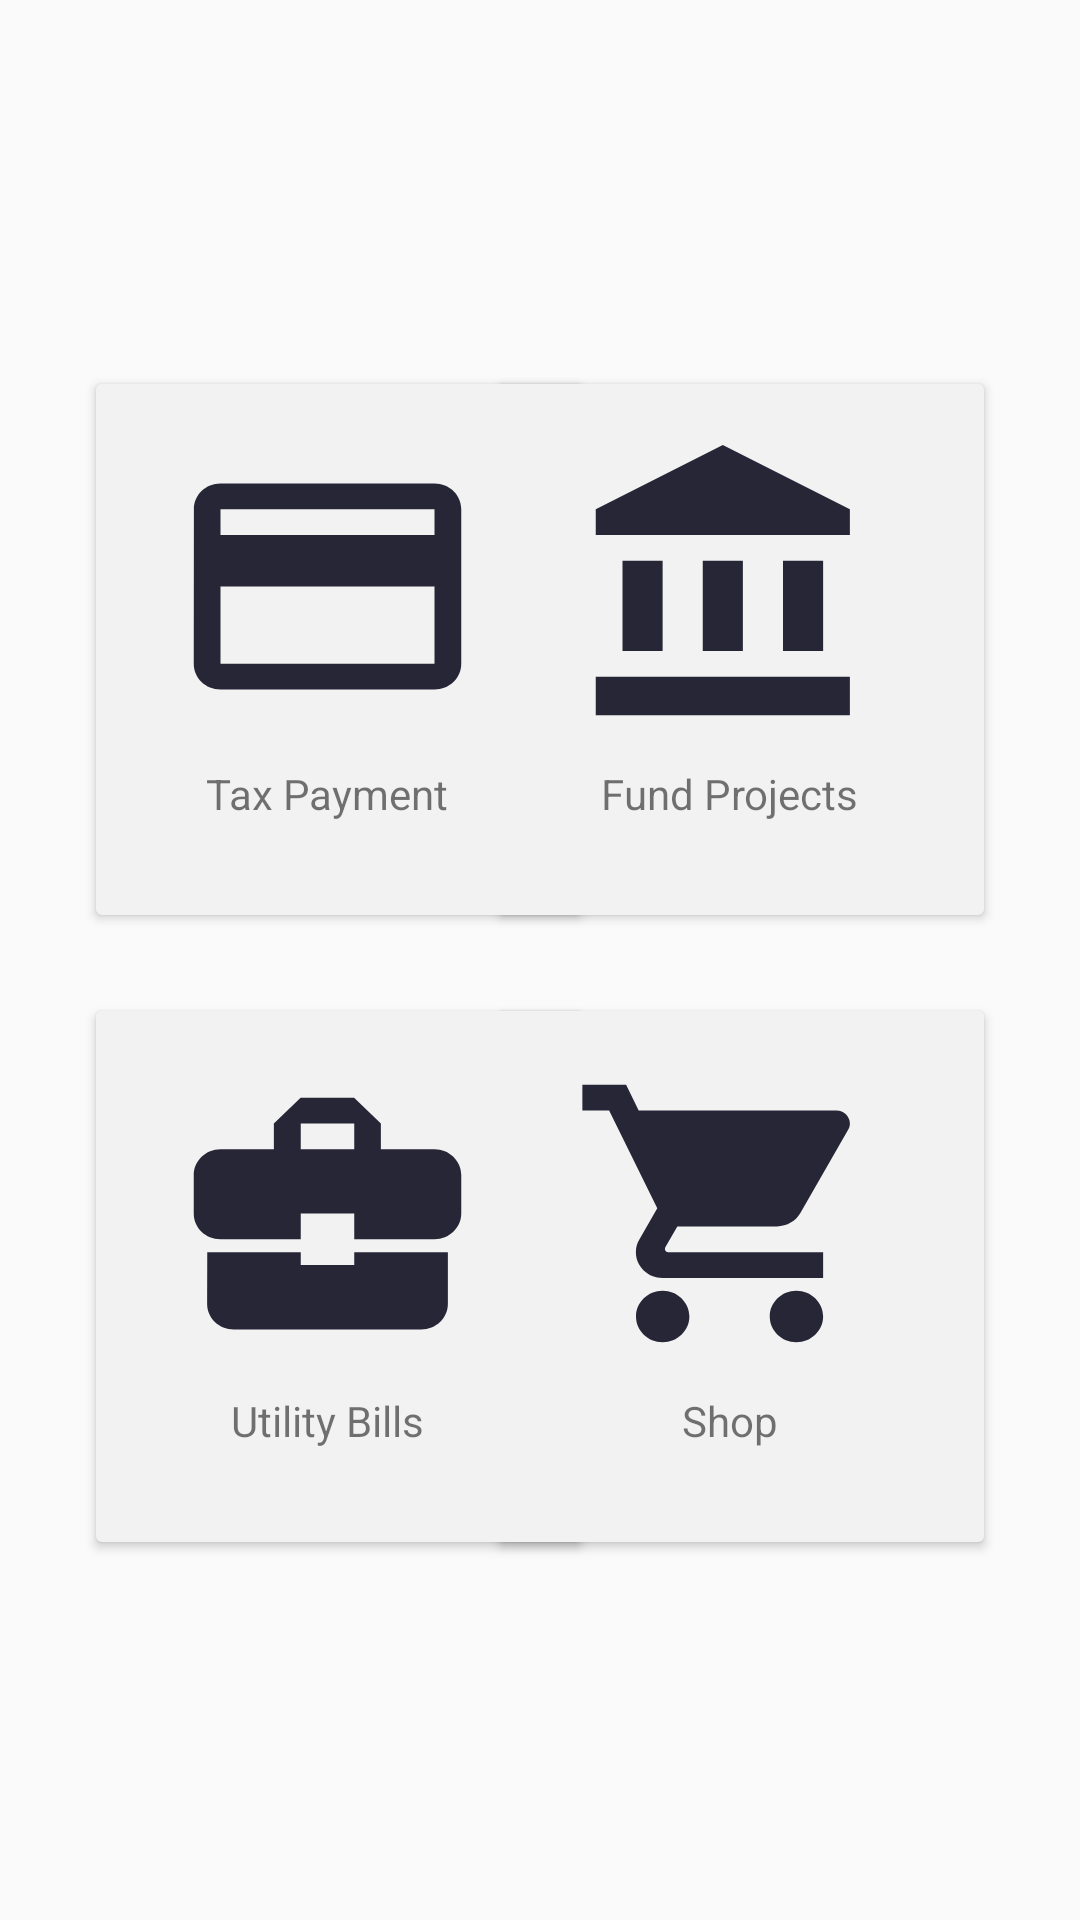

Named icons in this screenshot (1080x1920) and their bounding boxes, (x1, y1, x2, y2):
business center: (193, 1097, 462, 1330)
credit card: (193, 483, 462, 690)
